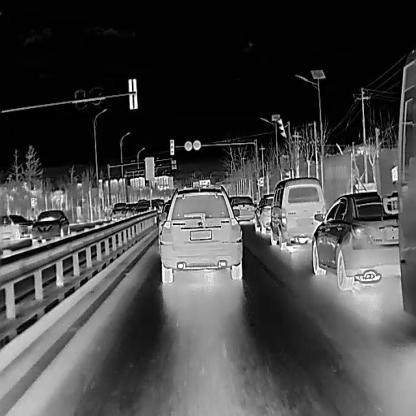car: (310, 190, 402, 291), (382, 49, 416, 319), (157, 184, 242, 283), (269, 175, 326, 250), (31, 207, 70, 241), (253, 193, 275, 233), (229, 194, 255, 225), (0, 214, 29, 239), (111, 201, 128, 223), (132, 202, 150, 218)
